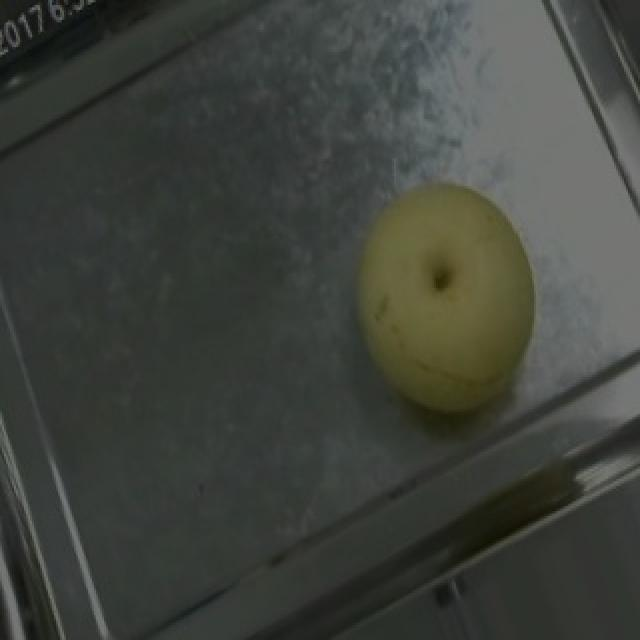Fruit: (306, 144, 584, 454)
